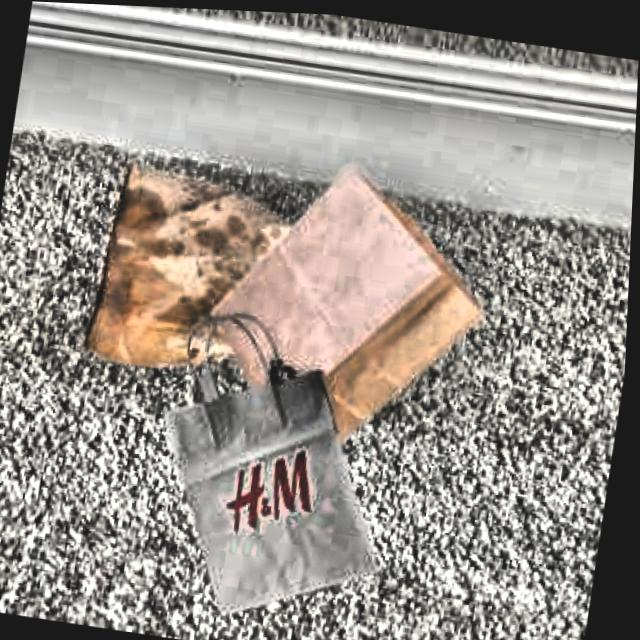Paper-bag: (106, 276, 414, 640), (185, 142, 506, 467), (82, 142, 384, 415)
